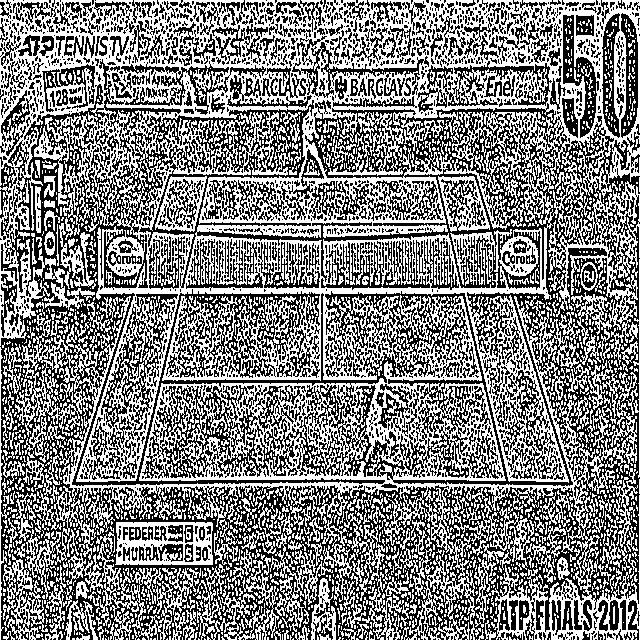left side: (73, 175, 208, 482), (437, 175, 571, 483)
player: (354, 358, 408, 490), (296, 100, 332, 188)
